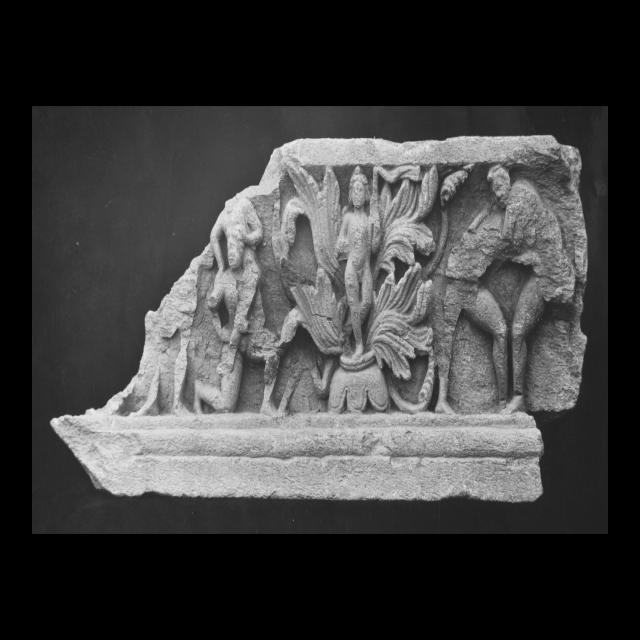buddha-standing: (328, 167, 388, 413)
